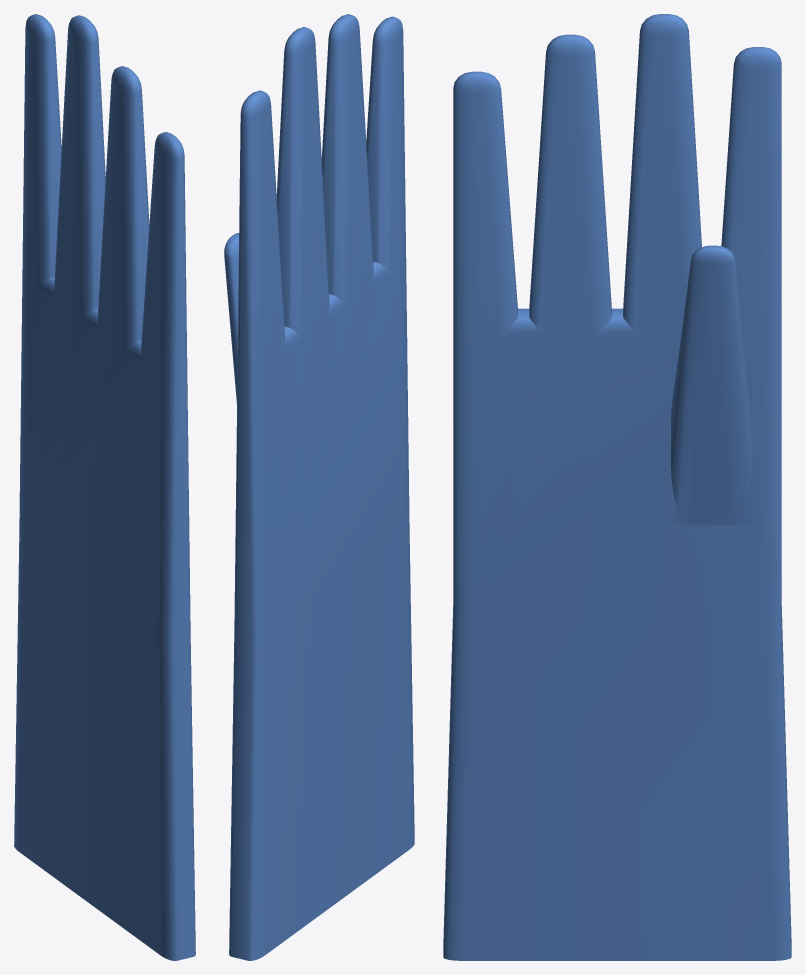
File: luva (1).fbx
3 views of the same model, side by side, from view 1: azimuth 30°, elevation 25°; view 2: azimuth 150°, elevation 25°; view 3: azimuth 270°, elevation 25° (orthographic). The views are drawn at different scales.
Visible parts, largest first — view 1: Luva; view 2: Luva; view 3: Luva.
Boxes of the visible parts, x1,y1,x2,y2 form: Luva: (14, 14, 195, 960); Luva: (224, 14, 414, 960); Luva: (443, 14, 791, 960).
Size of the model in its own units: 31.31 by 423 by 142.
